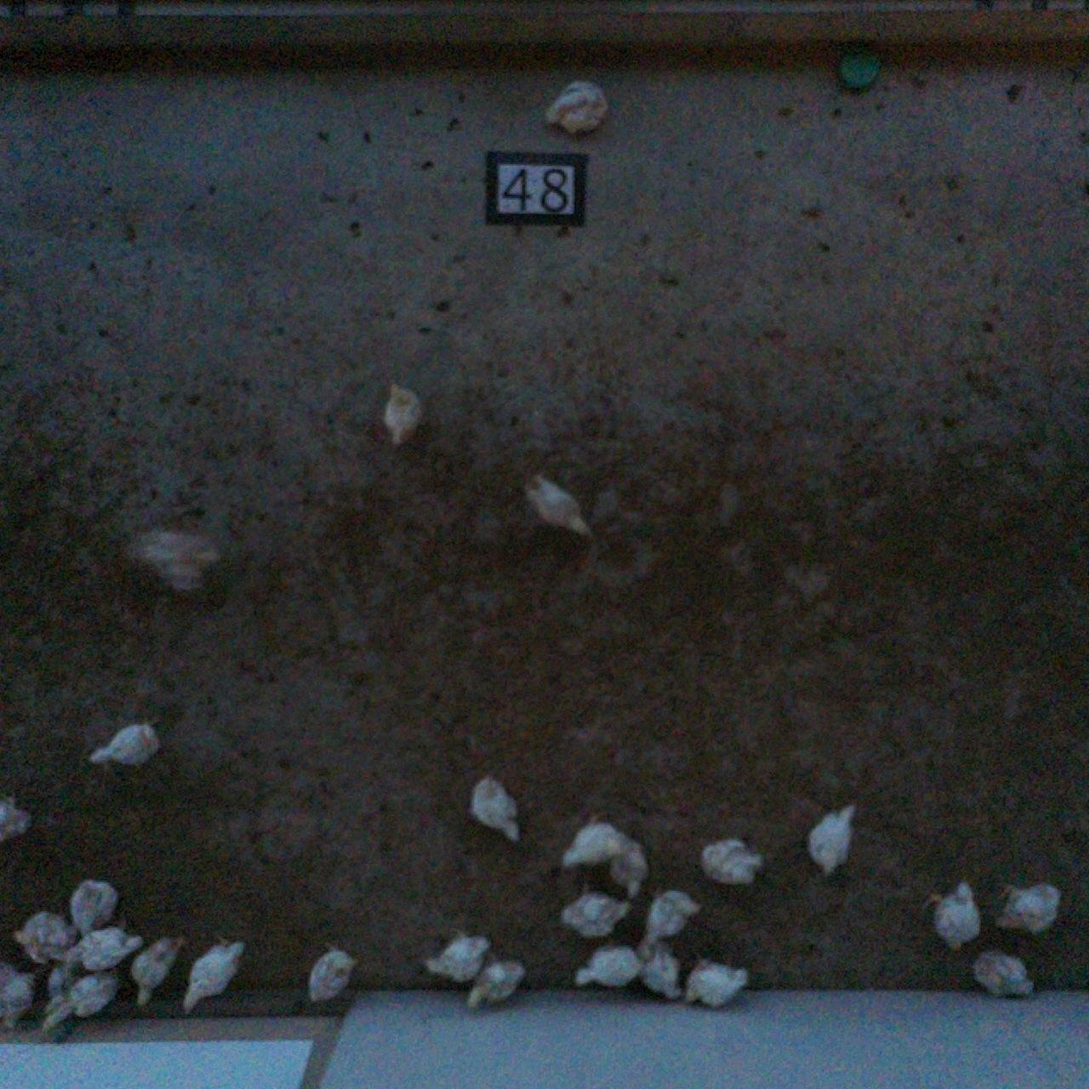chicken: (129, 532, 216, 590), (917, 881, 982, 951), (520, 477, 593, 538), (184, 937, 243, 1008), (557, 885, 630, 940), (992, 878, 1059, 937), (44, 978, 121, 1028), (131, 937, 184, 1006), (574, 944, 642, 997), (470, 778, 527, 840), (972, 944, 1035, 999), (643, 892, 698, 955), (559, 810, 620, 866), (546, 80, 609, 134), (66, 926, 144, 969), (87, 717, 159, 762), (305, 941, 358, 1002), (700, 837, 764, 887), (13, 913, 73, 966), (810, 804, 854, 874), (687, 957, 746, 1009), (421, 930, 486, 974), (636, 938, 680, 1002), (609, 832, 650, 896), (1, 966, 40, 1029), (384, 384, 424, 445), (467, 957, 518, 1003), (71, 881, 114, 932), (1, 791, 36, 841)
